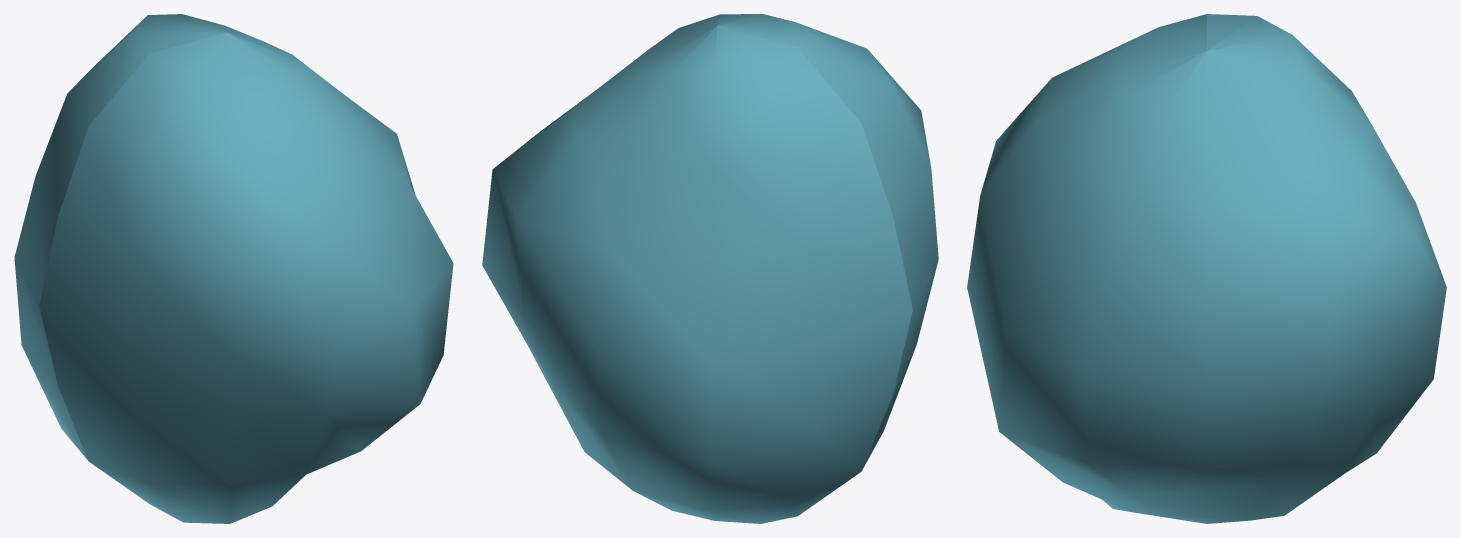
File: left_pisiform.glb
The picture shows the model from 3 angles, left to right: view 1: azimuth 30°, elevation 25°; view 2: azimuth 150°, elevation 25°; view 3: azimuth 270°, elevation 25°; orthographic projection. The views are drawn at different scales.
Visible parts, largest first — view 1: left_pisiform:body; view 2: left_pisiform:body; view 3: left_pisiform:body.
Boxes of the visible parts, left/top/right/bottom form: left_pisiform:body: left=14, top=14, right=453, bottom=523; left_pisiform:body: left=482, top=14, right=938, bottom=523; left_pisiform:body: left=967, top=14, right=1446, bottom=523.
Size of the model in its own units: 0.0315 by 0.036 by 0.033.
